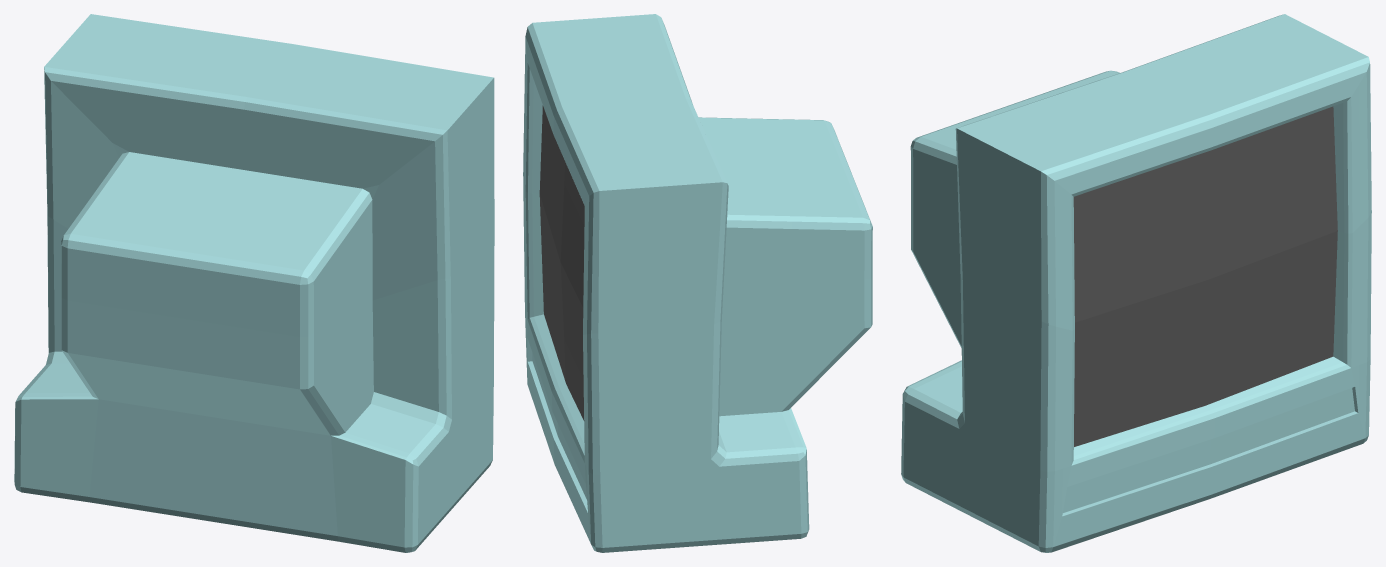
3 renders of one model, left to right at view 1: azimuth 30°, elevation 25°; view 2: azimuth 150°, elevation 25°; view 3: azimuth 270°, elevation 25°, orthographic. The views are drawn at different scales.
Visible parts, largest first — view 1: Cube.002; view 2: Cube.002; view 3: Cube.002.
Part boxes in pixels (box(x1,y1,x2,y2)): Cube.002: box(14, 14, 494, 552); Cube.002: box(523, 14, 872, 552); Cube.002: box(901, 14, 1371, 552).
Size of the model in its own units: 49.63 by 46.16 by 51.08.
